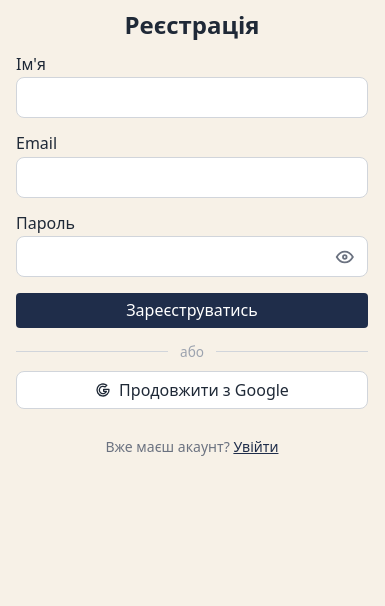
Test: RegisterPage › показує помилки валідації при відправці порожньої форми
Step 1. Click the button "Зареєструватись" → coordinates (192, 310), box x1=16 y1=293 x2=368 y2=328
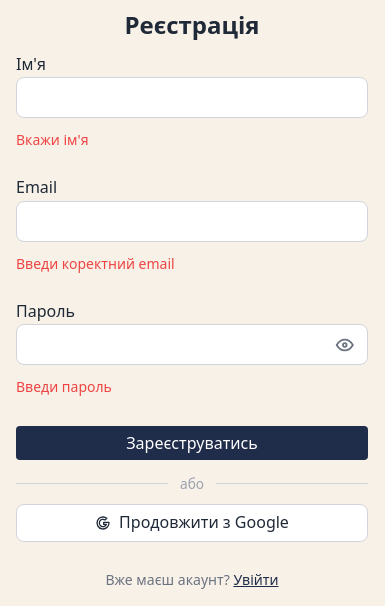
Now the text "Вкажи ім'я" is shown, box x1=16 y1=130 x2=88 y2=149
Now the text "Введи коректний email" is shown, box x1=16 y1=254 x2=175 y2=273
Now the text "Введи пароль" is shown, box x1=16 y1=378 x2=112 y2=396
